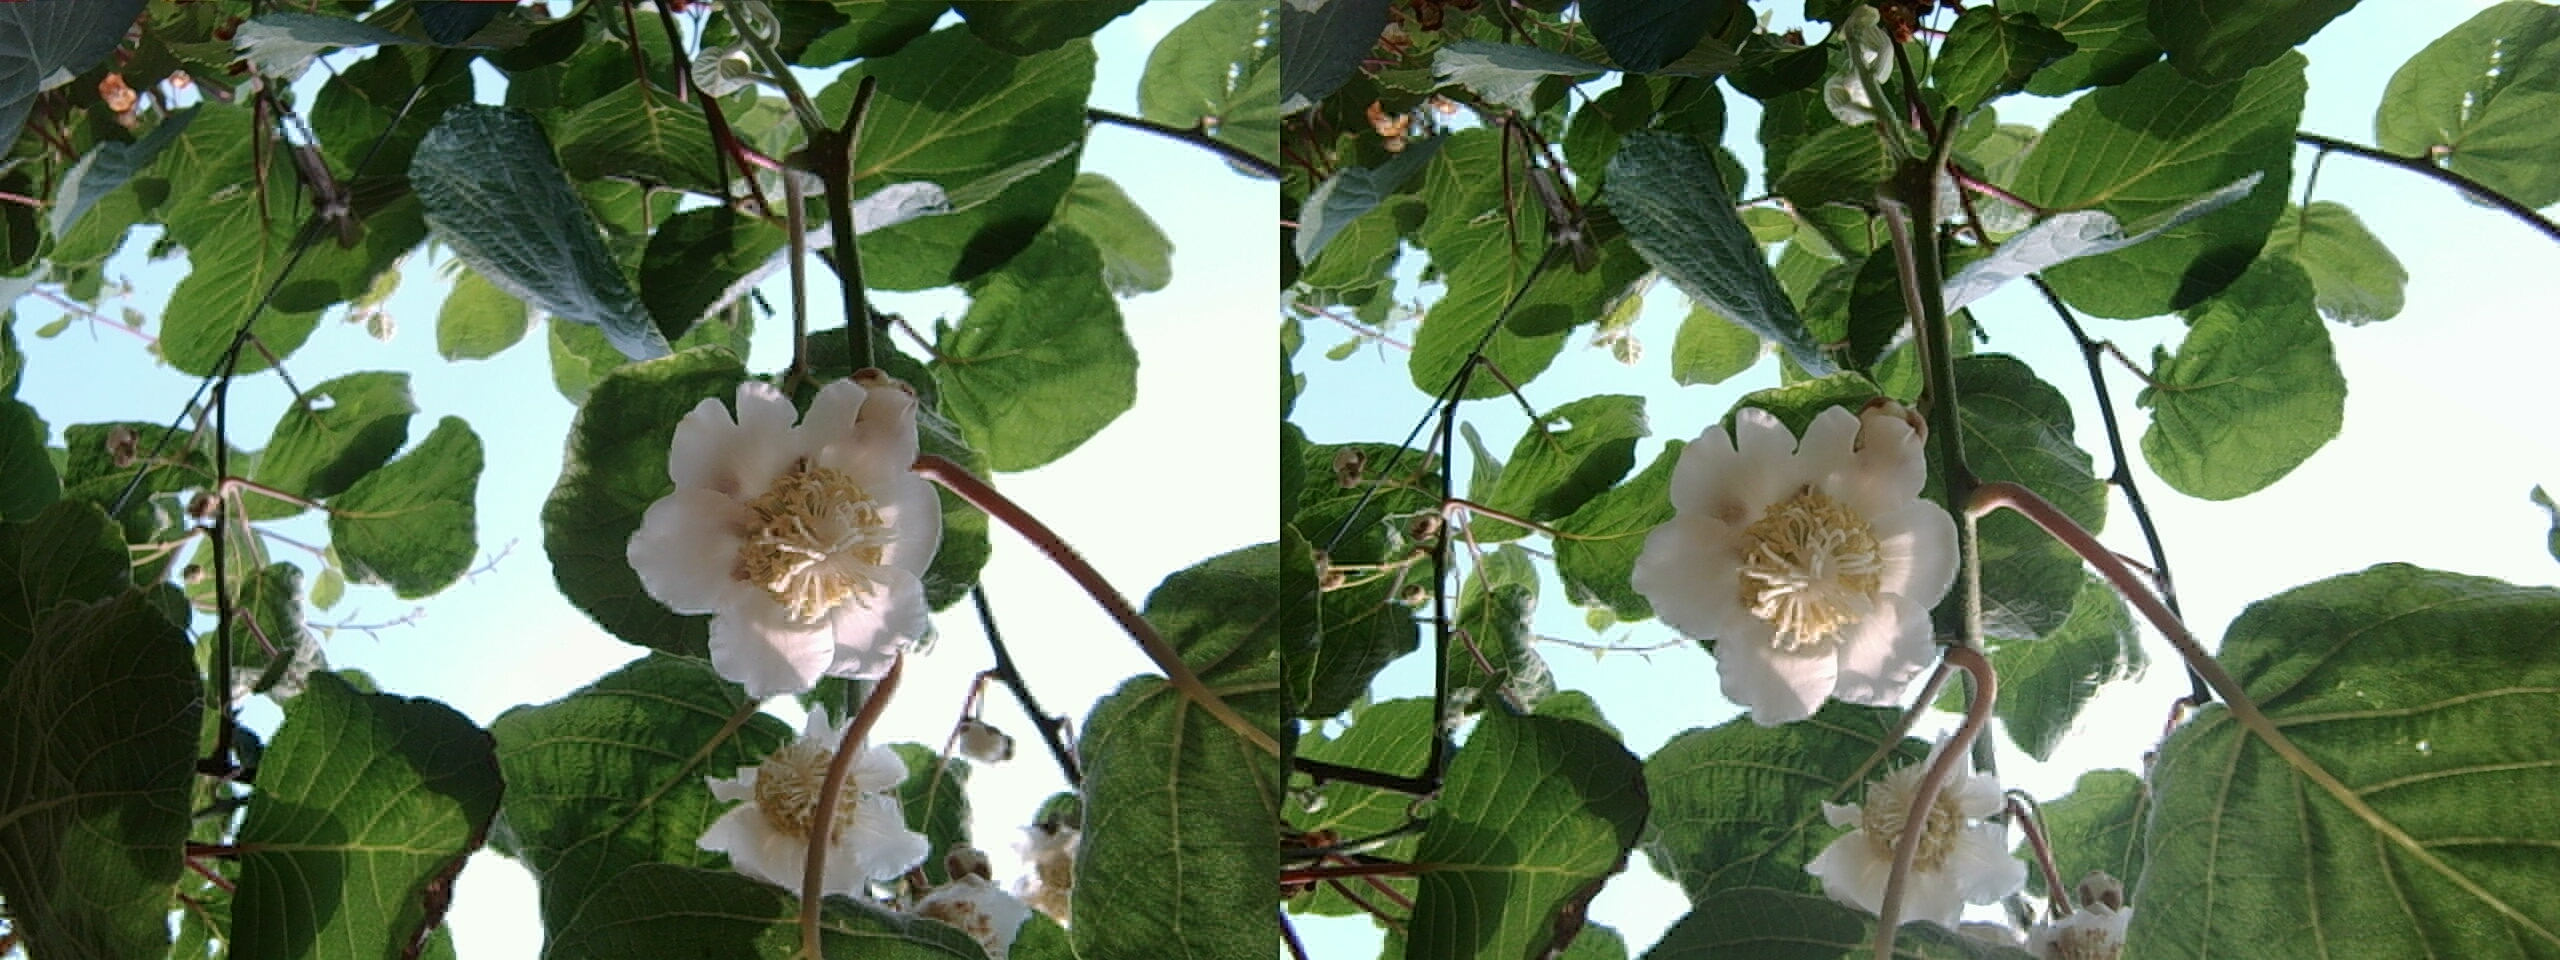flower: (638, 372, 936, 696), (1647, 410, 1948, 715), (1812, 740, 2023, 921), (707, 715, 914, 896)
